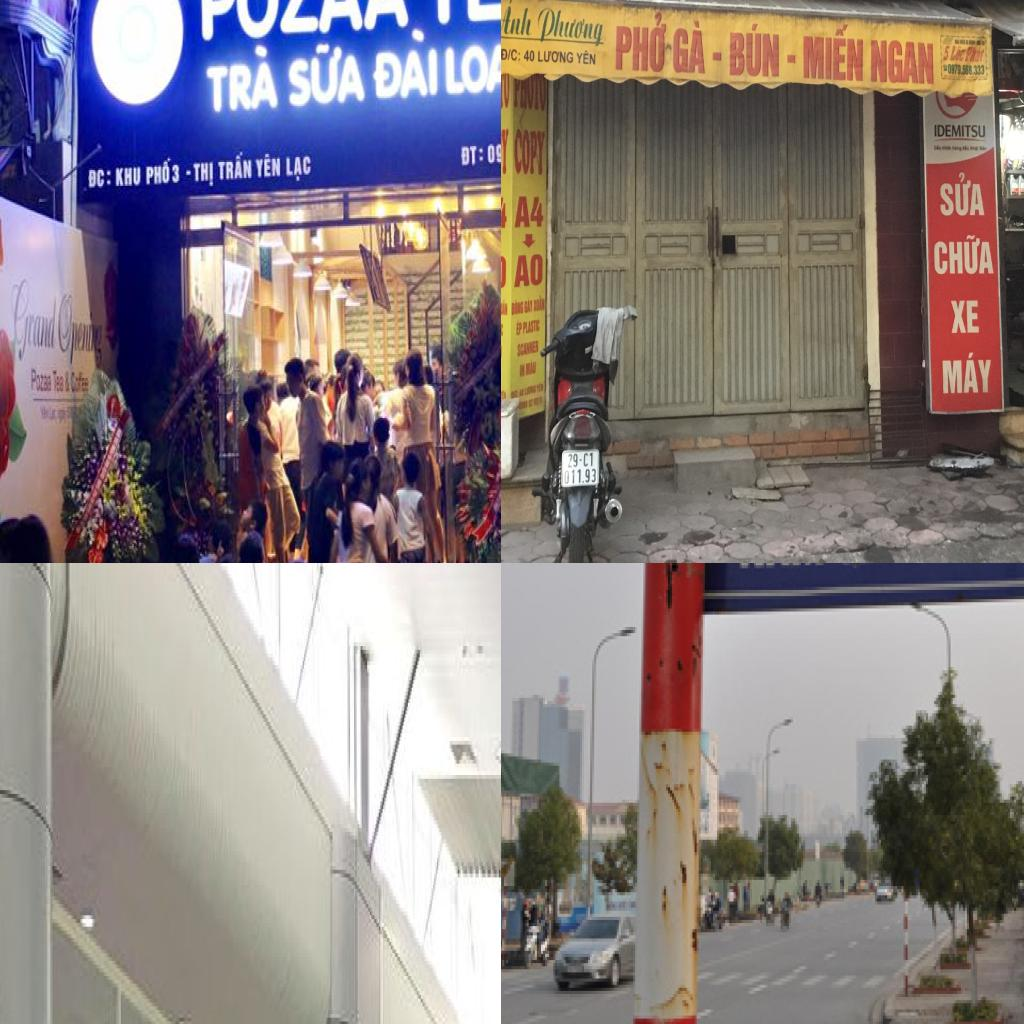text: (198, 0, 415, 48), (284, 37, 366, 106), (206, 45, 280, 114), (373, 28, 440, 101), (5, 277, 59, 367), (59, 287, 107, 370), (802, 21, 864, 82), (444, 37, 501, 99), (615, 9, 667, 73), (870, 38, 934, 86), (534, 6, 607, 47), (730, 22, 780, 78), (933, 234, 994, 275), (940, 350, 992, 396), (940, 172, 985, 217), (672, 18, 706, 74), (513, 128, 546, 175), (501, 0, 535, 37), (220, 148, 254, 182), (144, 157, 181, 188), (514, 253, 544, 288), (514, 195, 544, 229), (950, 300, 979, 334), (254, 149, 284, 181), (29, 367, 54, 397), (191, 160, 215, 191), (934, 124, 986, 138), (285, 156, 312, 182), (86, 167, 113, 192), (459, 144, 485, 168), (116, 165, 142, 188), (70, 368, 91, 396), (564, 468, 596, 486), (533, 73, 546, 113), (538, 50, 574, 64), (567, 452, 594, 469), (501, 127, 510, 177), (948, 64, 985, 76), (999, 53, 1012, 85), (517, 340, 539, 358), (518, 396, 542, 412), (52, 367, 66, 394), (575, 50, 597, 66), (964, 46, 986, 62), (948, 46, 966, 64), (523, 319, 540, 335), (501, 48, 520, 61), (533, 294, 545, 313), (512, 298, 524, 316), (501, 255, 507, 289), (501, 196, 507, 229), (526, 358, 536, 376), (524, 297, 534, 313), (524, 384, 536, 397), (523, 50, 535, 62), (942, 46, 950, 62), (501, 298, 508, 315), (516, 319, 522, 336), (536, 381, 544, 393), (520, 363, 525, 378), (952, 145, 962, 152), (941, 144, 952, 150), (970, 145, 979, 152), (934, 144, 942, 151), (501, 389, 506, 400), (519, 388, 524, 398), (962, 145, 970, 151), (979, 145, 987, 151), (515, 389, 519, 398)
